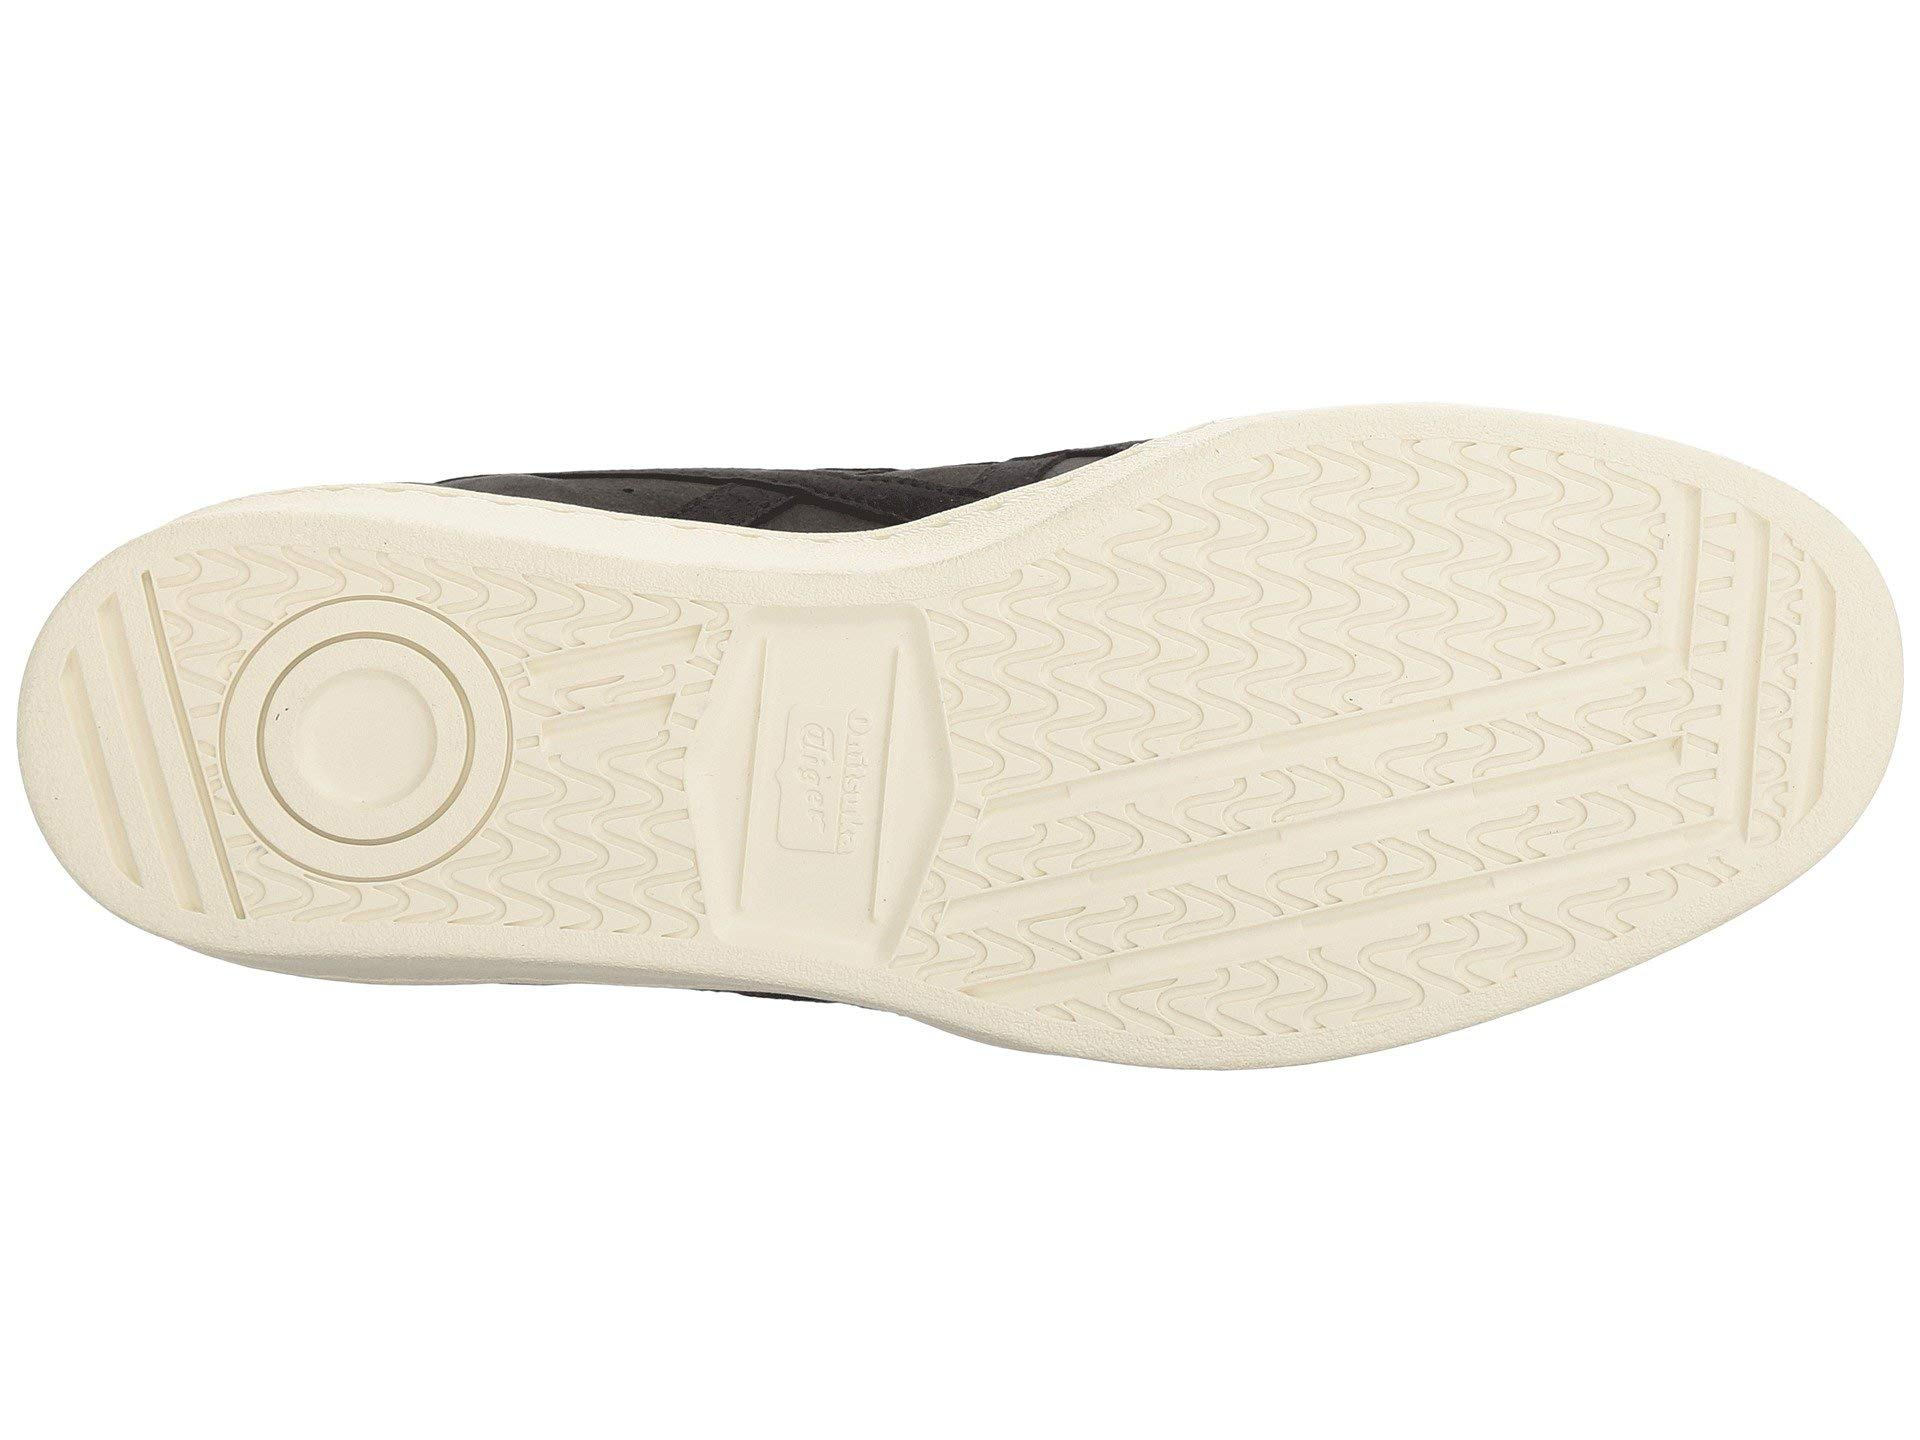chevron: (618, 566, 1087, 1023), (1250, 489, 1637, 924), (180, 535, 562, 976)
circle: (180, 535, 562, 976)
polygon: (618, 566, 1087, 1023)
quad: (618, 566, 1087, 1023)
text: (618, 566, 1087, 1023)
